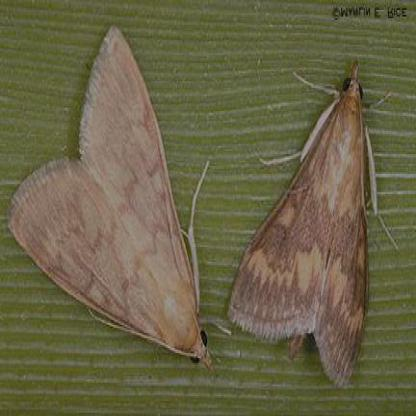stem-borer: (7, 24, 222, 381), (226, 55, 398, 389)
